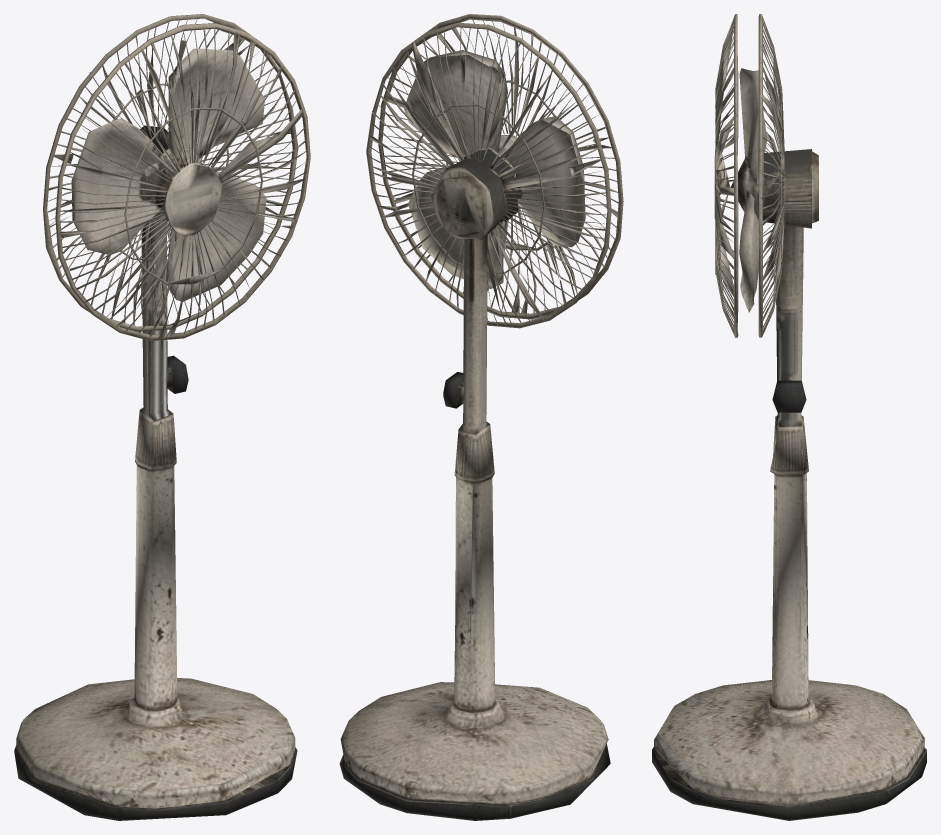
Rendered from p7-pedestal-fan-t25.glb.
3 renders of one model, left to right at view 1: azimuth 30°, elevation 25°; view 2: azimuth 150°, elevation 25°; view 3: azimuth 270°, elevation 25°, orthographic. The views are drawn at different scales.
Visible parts, largest first — view 1: p7-pedestal-fan-t25; view 2: p7-pedestal-fan-t25; view 3: p7-pedestal-fan-t25.
Boxes of the visible parts, x1=… form: p7-pedestal-fan-t25: x1=14, y1=14, x2=310, y2=820; p7-pedestal-fan-t25: x1=339, y1=14, x2=623, y2=820; p7-pedestal-fan-t25: x1=652, y1=14, x2=926, y2=820.
Size of the model in its own units: 0.456 by 1.3 by 0.438.
Materials: 1 (1 with a texture image).
